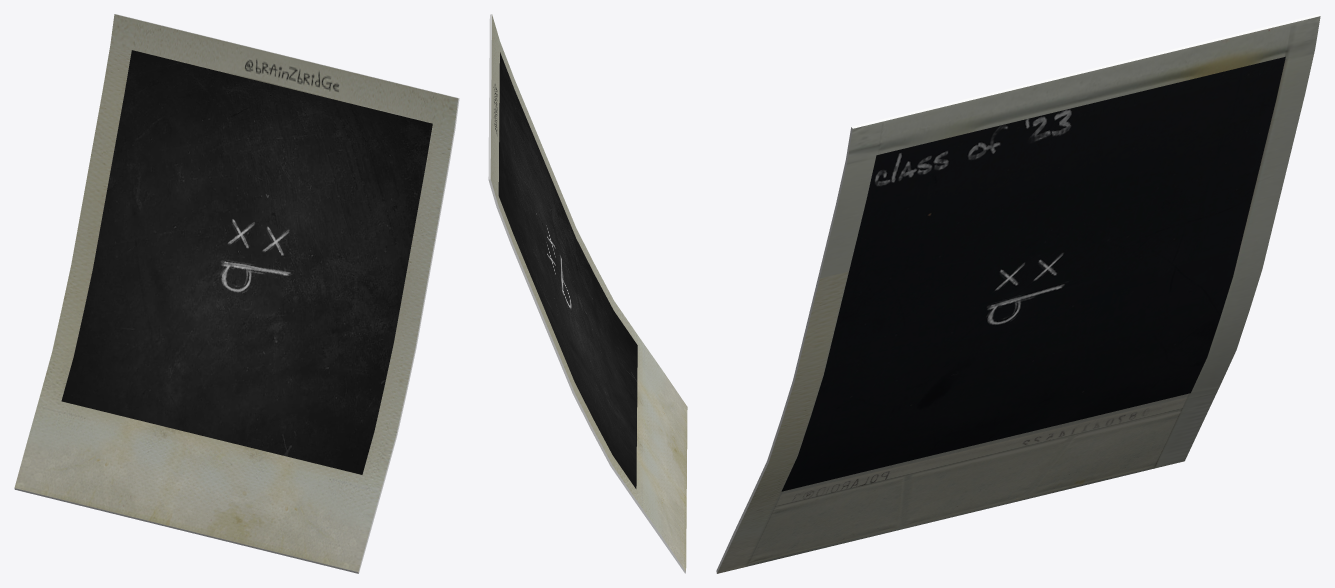
The model's file is testingar.glb.
3 renders of one model, left to right at view 1: azimuth 30°, elevation 25°; view 2: azimuth 150°, elevation 25°; view 3: azimuth 270°, elevation 25°, orthographic. The views are drawn at different scales.
Parts seen in each view (by area): view 1: Object_3, Object_5; view 2: Object_3, Object_5; view 3: Object_4, Object_5.
Boxes of the visible parts, x1,y1,x2,y2 form: Object_3: (61, 50, 432, 474); Object_5: (14, 14, 459, 573); Object_3: (498, 52, 637, 488); Object_5: (488, 14, 687, 573); Object_4: (781, 56, 1285, 491); Object_5: (716, 14, 1320, 573).
Size of the model in its own units: 3.61 by 4.31 by 4.32.
Materials: 3 (3 with a texture image).
